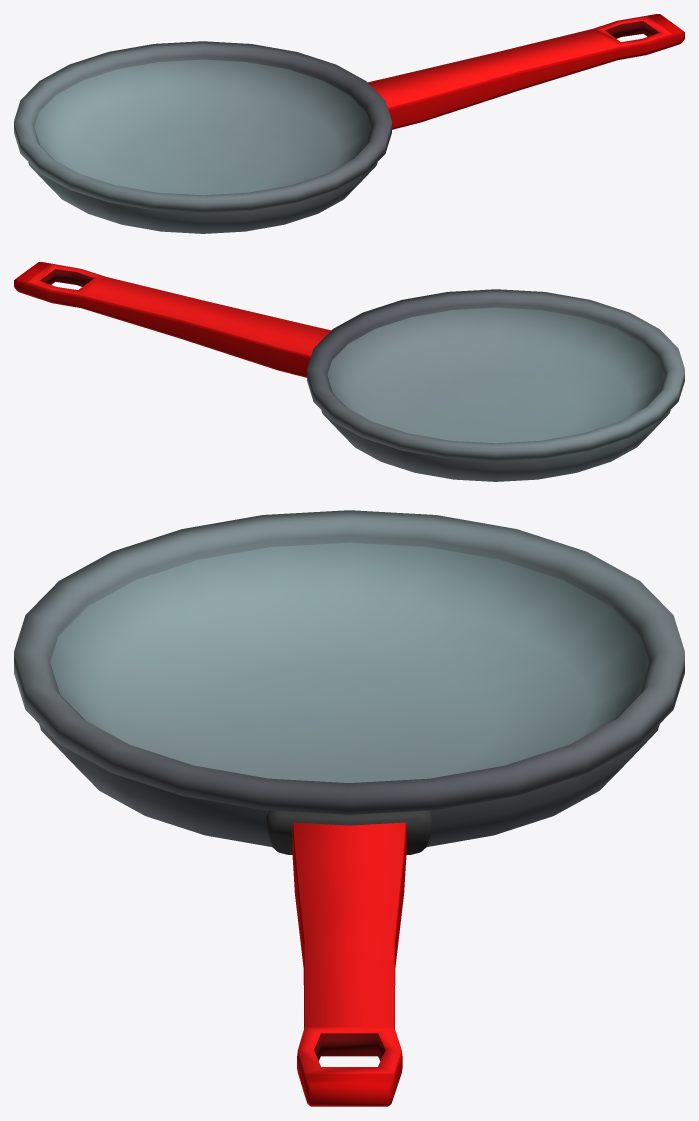
File: tools_pan.fbx
The picture shows the model from 3 angles, top to bottom: view 1: azimuth 30°, elevation 25°; view 2: azimuth 150°, elevation 25°; view 3: azimuth 270°, elevation 25°; orthographic projection. The views are drawn at different scales.
Visible parts, largest first — view 1: Circle; view 2: Circle; view 3: Circle.
Boxes of the visible parts, box(x1,y1,x2,y2) form: Circle: box(14, 14, 684, 233); Circle: box(14, 262, 684, 481); Circle: box(14, 510, 684, 1106).
Size of the model in its own units: 55.8 by 5.4 by 28.8.
